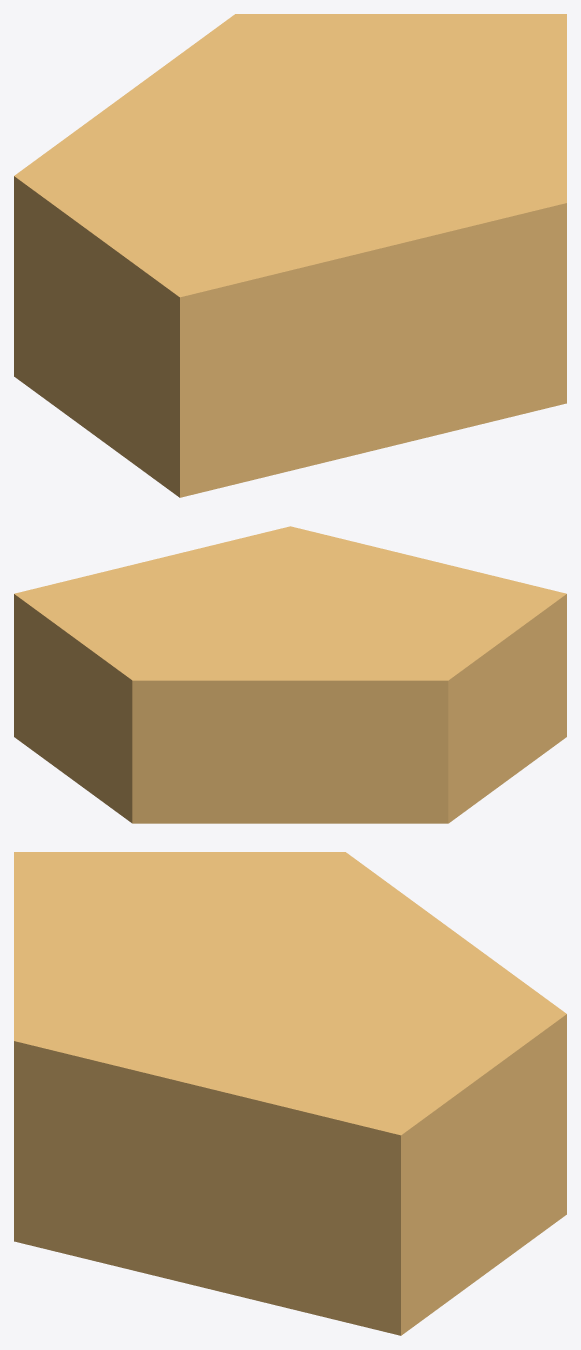
3 renders of one model, top to bottom at view 1: azimuth 30°, elevation 25°; view 2: azimuth 150°, elevation 25°; view 3: azimuth 270°, elevation 25°, orthographic. The views are drawn at different scales.
Visible parts, largest first — view 1: WoodenWallHalfCurvedFill; view 2: WoodenWallHalfCurvedFill; view 3: WoodenWallHalfCurvedFill.
Boxes of the visible parts, x1,y1,x2,y2 form: WoodenWallHalfCurvedFill: (14, 14, 566, 497); WoodenWallHalfCurvedFill: (14, 526, 566, 823); WoodenWallHalfCurvedFill: (14, 852, 566, 1335).
Size of the model in its own units: 1.52 by 0.5 by 1.25.
1 material, 1 textured.
